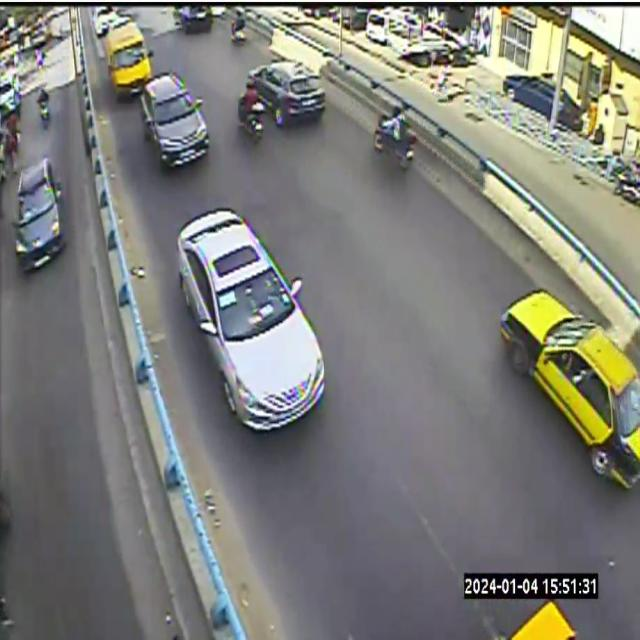car: (177, 208, 324, 430), (500, 289, 639, 488), (141, 72, 209, 166), (249, 61, 324, 126), (104, 21, 152, 99)
